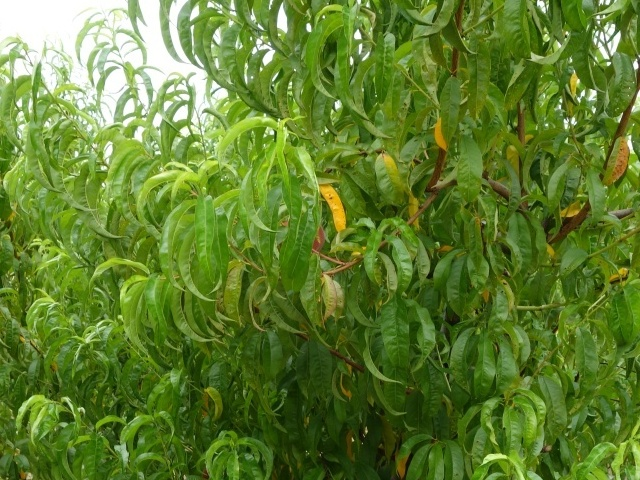peach: (308, 224, 331, 256)
